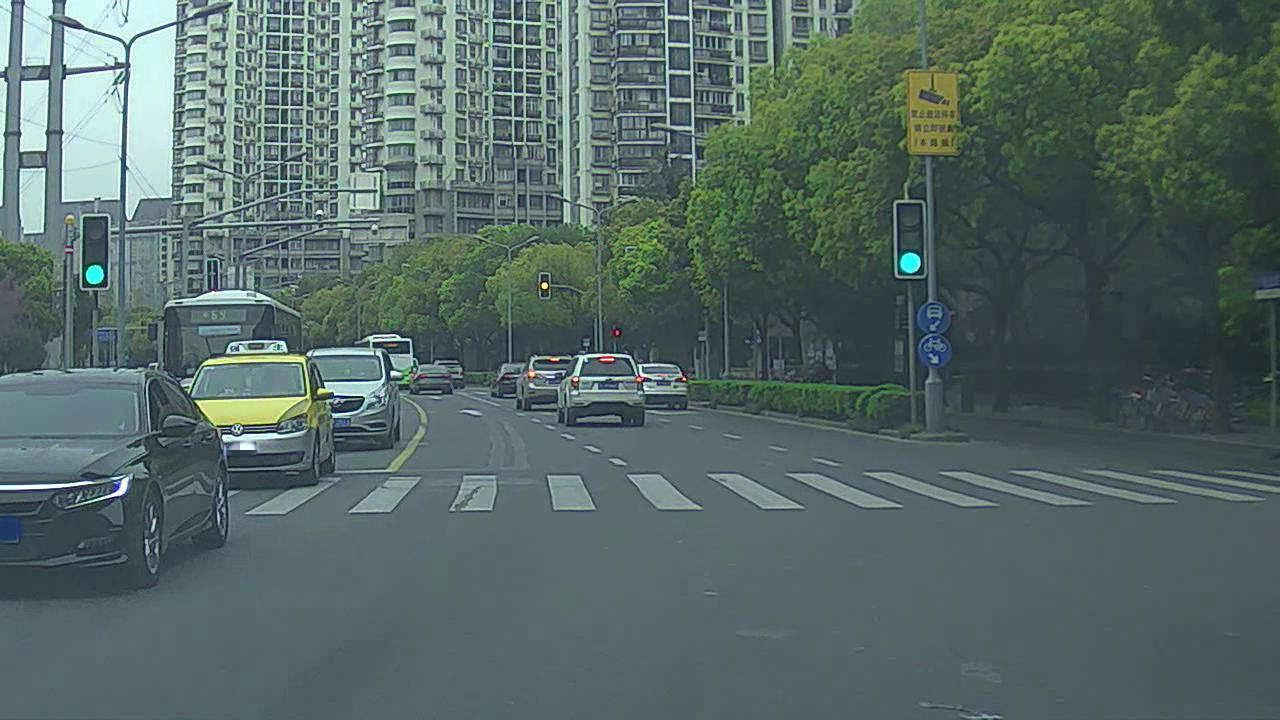traffic_light: (897, 199, 929, 280), (78, 213, 110, 292), (539, 271, 550, 299)
